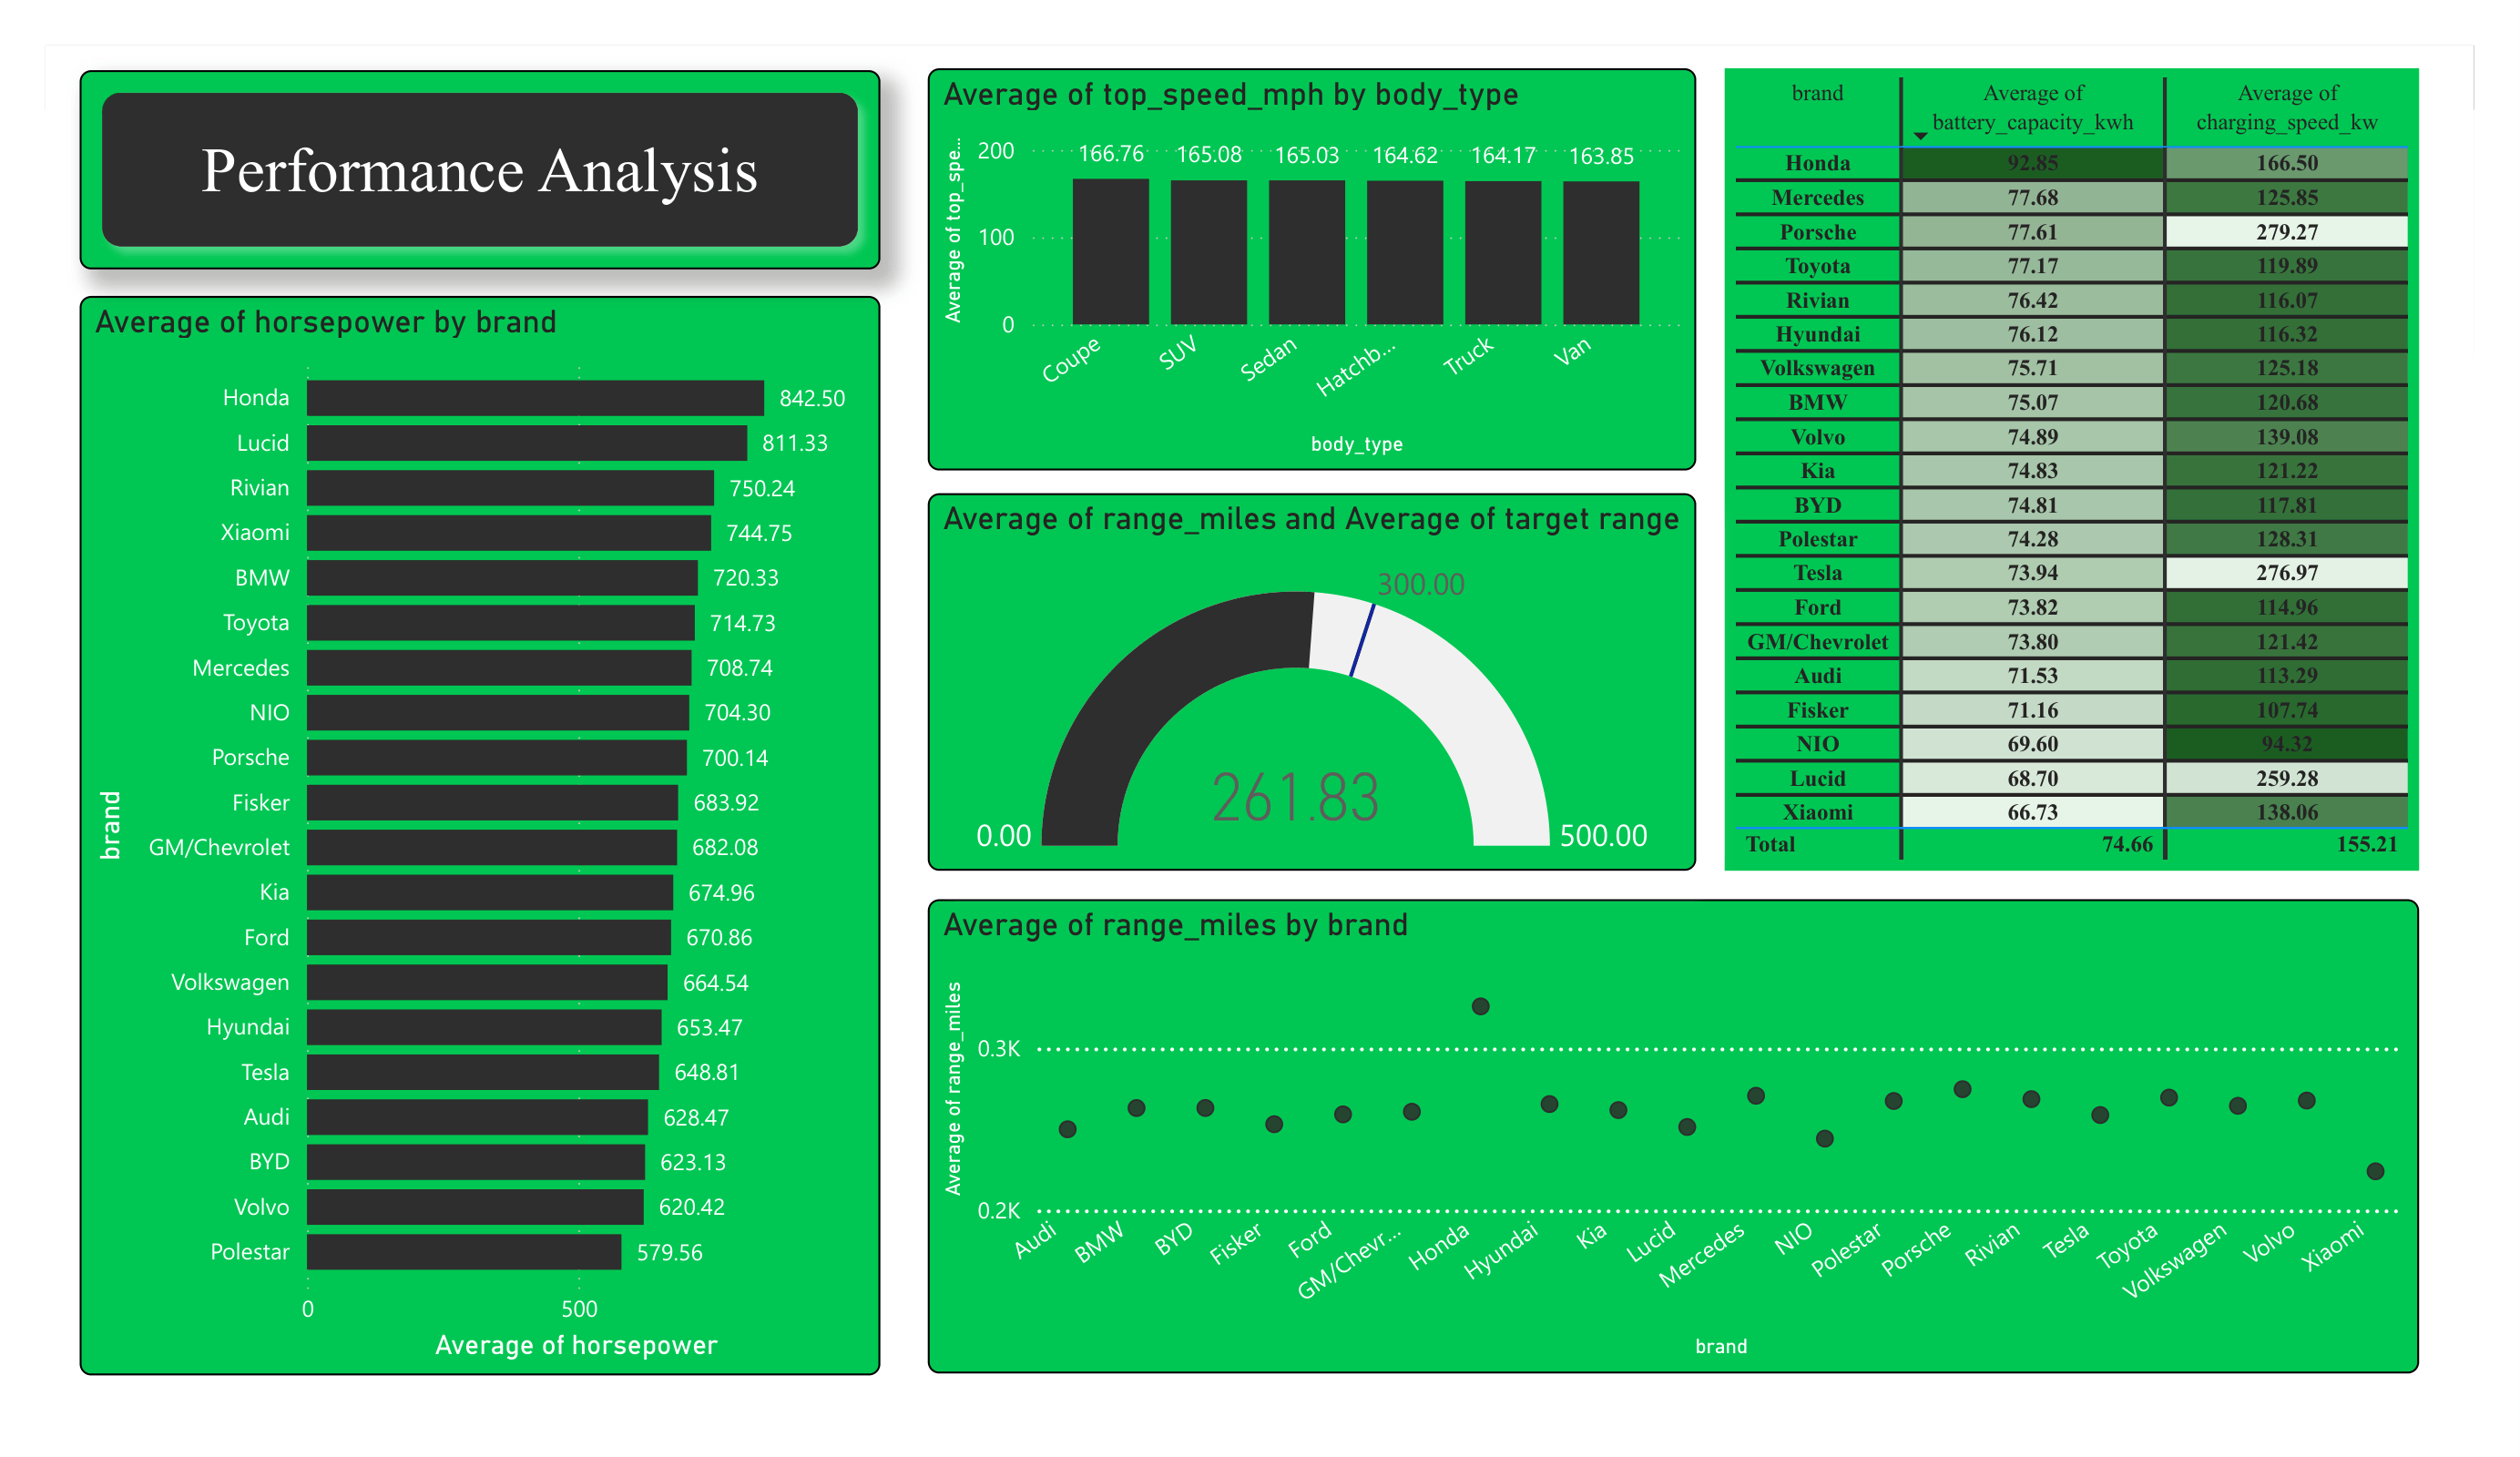

The page's visual inventory and layout, read from the dashboard file:
{"tool":"powerbi","page":{"name":"Page 2","canvas":[1280,720],"ordinal":1},"visuals":[{"type":"columnChart","fields":{"Y":["Avg(ev_market_2026.top_speed_mph)"],"Category":["ev_market_2026.body_type"]},"box":[465.2,12.3,404.8,211.3],"z":0},{"type":"barChart","fields":{"Y":["Avg(ev_market_2026.horsepower)"],"Category":["ev_market_2026.brand"]},"box":[18.1,132.2,421.6,569],"z":1000},{"type":"tableEx","fields":{"Values":["ev_market_2026.brand","Avg(ev_market_2026.battery_capacity_kwh)","Avg(ev_market_2026.charging_speed_kw)"]},"box":[885.1,12.3,366.4,422.6],"z":2000},{"type":"scatterChart","fields":{"Y":["Avg(ev_market_2026.range_miles)"],"X":["ev_market_2026.brand"]},"box":[465.2,450.1,786.3,249.7],"z":3000},{"type":"gauge","fields":{"Y":["Avg(ev_market_2026.range_miles)"],"TargetValue":["Avg(ev_market_2026.target range)"]},"box":[465.2,236,404.8,199],"z":4000},{"type":"shape","box":[18.1,12.5,421.6,105.7],"z":5000}]}

Visuals, with their boxes in screenshot pixels (x1, y1, x2, y2):
columnChart - Avg(ev_market_2026.top_speed_mph) x ev_market_2026.body_type: 923 76 1682 471
barChart - Avg(ev_market_2026.horsepower) x ev_market_2026.brand: 87 300 876 1365
tableEx - ev_market_2026.brand x Avg(ev_market_2026.battery_capacity_kwh): 1710 76 2396 867
scatterChart - Avg(ev_market_2026.range_miles) x ev_market_2026.brand: 923 895 2396 1363
gauge - Avg(ev_market_2026.range_miles) x Avg(ev_market_2026.target range): 923 494 1682 867
shape: 87 76 876 274
